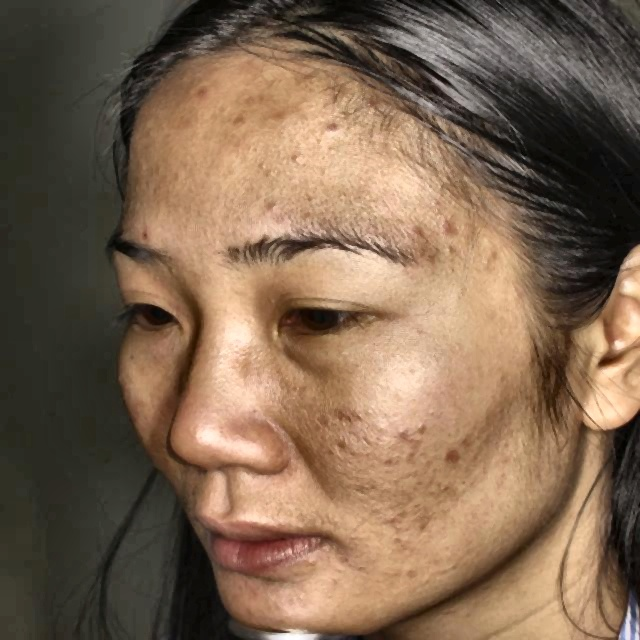pustule: (402, 227, 437, 262), (478, 241, 509, 276), (399, 411, 426, 448), (442, 432, 473, 462), (324, 115, 348, 148), (438, 217, 464, 242)
